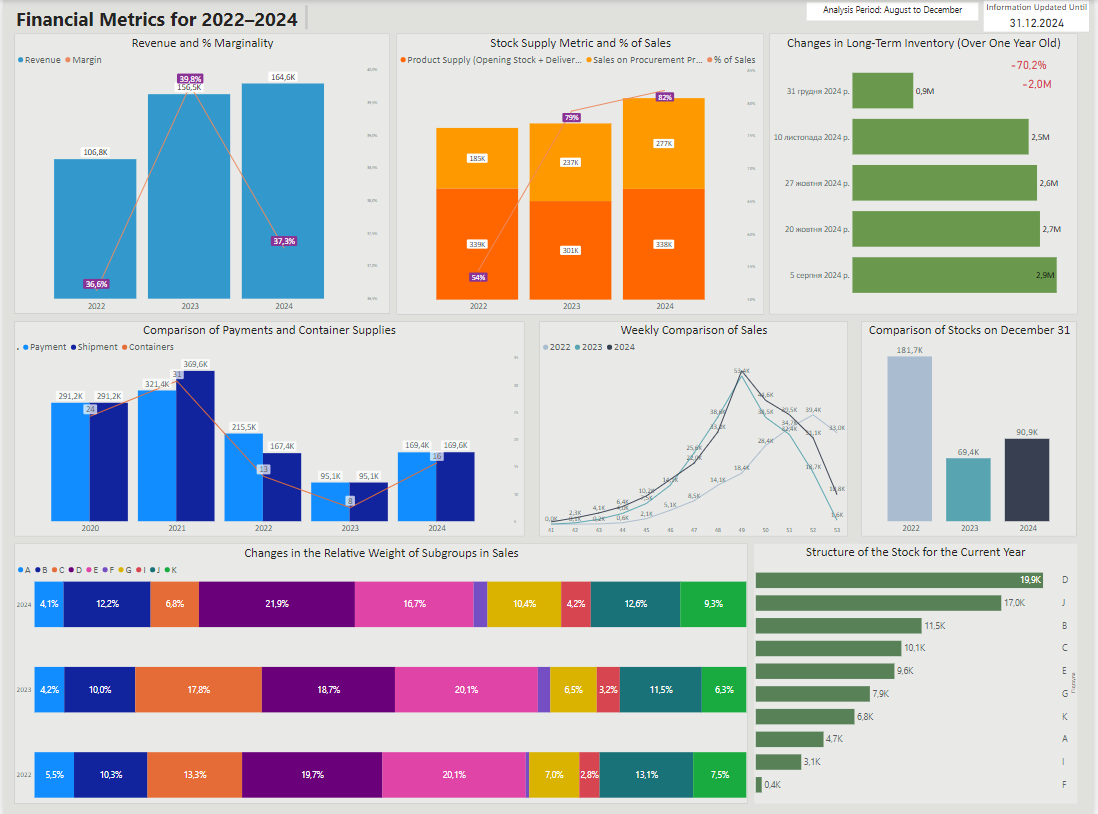

What the dashboard file says about the page in this screenshot:
{"tool":"powerbi","page":{"name":"Новий рік - повний період","canvas":[3400,2550],"ordinal":0},"visuals":[{"type":"lineClusteredColumnComboChart","title":"Comparison of Payments and Container Supplies","fields":{"Y2":["Sum(Оплати/Поставки.Конт)"],"Category":["Оплати/Поставки.Дата.Варіація.Ієрархія дат.Рік"],"Y":["Sum(Оплати/Поставки.Сума$)"],"Series":["Оплати/Поставки.Тип(Payment/Shipment)"]},"box":[35,1000.8,1588.9,669.8],"z":0},{"type":"textbox","box":[11.7,11.7,942.4,85.7],"z":1000},{"type":"card","title":"Information Updated Until","fields":{"Values":["Дані для Забезпечення та % реал-ного товару.max date"]},"box":[3053,0,333,100],"z":2000},{"type":"textbox","box":[2506,5.9,534.1,55.8],"z":3000},{"type":"clusteredBarChart","title":"Changes in Long-Term Inventory (Over One Year Old)","fields":{"Y":["Старі залишки.Склад ЦЗ"],"Category":["Старі залишки.Дата"]},"box":[2385.9,105.5,961.4,873.4],"z":4000},{"type":"clusteredBarChart","title":"Structure of the Stock for the Current Year","fields":{"Category":["Дані для Забезпечення та % реал-ного товару.Підгрупа"],"Y":["Дані для Забезпечення та % реал-ного товару.Склад_ЦЗ"]},"box":[2341.7,1693.2,1006.5,809.9],"z":5000},{"type":"card","fields":{"Values":["Старі залишки (2).Динаміка старих залишків_1"]},"box":[3106,164,175,74],"z":6000},{"type":"card","fields":{"Values":["Старі залишки (2).Динаміка старих залишків грн"]},"box":[3119,214,202,86],"z":7000},{"type":"lineClusteredColumnComboChart","title":"Revenue and % Marginality","fields":{"Category":["Календар.Date.Варіація.Ієрархія дат.Рік"],"Y":["Дані для Забезпечення та % реал-ного товару.Дохід"],"Y2":["Дані для Забезпечення та % реал-ного товару.Маржа"]},"box":[35.5,106.4,1170.8,872.2],"z":8000},{"type":"lineStackedColumnComboChart","title":"Stock Supply Metric and % of Sales","fields":{"Category":["Календар.Date.Варіація.Ієрархія дат.Рік"],"Y":["Дані для Забезпечення та % реал-ного товару.Забезпечення","Дані для Забезпечення та % реал-ного товару.Реал_ЦЗ"],"Y2":["Дані для Забезпечення та % реал-ного товару.% реал-ного"]},"box":[1227,106.4,1144.2,875.1],"z":9000},{"type":"lineChart","title":"Weekly Comparison of Sales","fields":{"Series":["Календар.Date.Варіація.Ієрархія дат.Рік"],"Category":["Календар.№ тижня"],"Y":["Дані для Забезпечення та % реал-ного товару.Реал_ЦЗ"]},"box":[1670.7,1000.8,961.9,669.8],"z":10000},{"type":"clusteredColumnChart","title":"Comparison of Stocks on December 31","fields":{"Y":["Дані для Забезпечення та % реал-ного товару.Склад_ЦЗ"],"Category":["Календар.Date.Варіація.Ієрархія дат.Рік"]},"box":[2675.4,1000.8,669.8,669.8],"z":11000},{"type":"hundredPercentStackedBarChart","title":"Changes in the Relative Weight of Subgroups in Sales","fields":{"Category":["Календар.Date.Варіація.Ієрархія дат.Рік"],"Y":["Sum(Дані для Забезпечення та % реал-ного товару.Реал ЦР)"],"Series":["Дані для Забезпечення та % реал-ного товару.Підгрупа"]},"box":[35.2,1693.2,2285.9,809.9],"z":12000}]}

Visuals, with their boxes in screenshot pixels (x1, y1, x2, y2), scaled from the page's 3400x2550 canvas onto the 1098x814 screenshot:
"Comparison of Payments and Container Supplies" lineClusteredColumnComboChart: Rect(11, 319, 524, 533)
textbox: Rect(4, 4, 308, 31)
"Information Updated Until" card: Rect(986, 0, 1093, 32)
textbox: Rect(809, 2, 982, 20)
"Changes in Long-Term Inventory (Over One Year Old)" clusteredBarChart: Rect(771, 34, 1081, 312)
"Structure of the Stock for the Current Year" clusteredBarChart: Rect(756, 540, 1081, 799)
card - Старі залишки (2).Динаміка старих залишків_1: Rect(1003, 52, 1060, 76)
card - Старі залишки (2).Динаміка старих залишків грн: Rect(1007, 68, 1072, 96)
"Revenue and % Marginality" lineClusteredColumnComboChart: Rect(11, 34, 390, 312)
"Stock Supply Metric and % of Sales" lineStackedColumnComboChart: Rect(396, 34, 766, 313)
"Weekly Comparison of Sales" lineChart: Rect(540, 319, 850, 533)
"Comparison of Stocks on December 31" clusteredColumnChart: Rect(864, 319, 1080, 533)
"Changes in the Relative Weight of Subgroups in Sales" hundredPercentStackedBarChart: Rect(11, 540, 750, 799)
